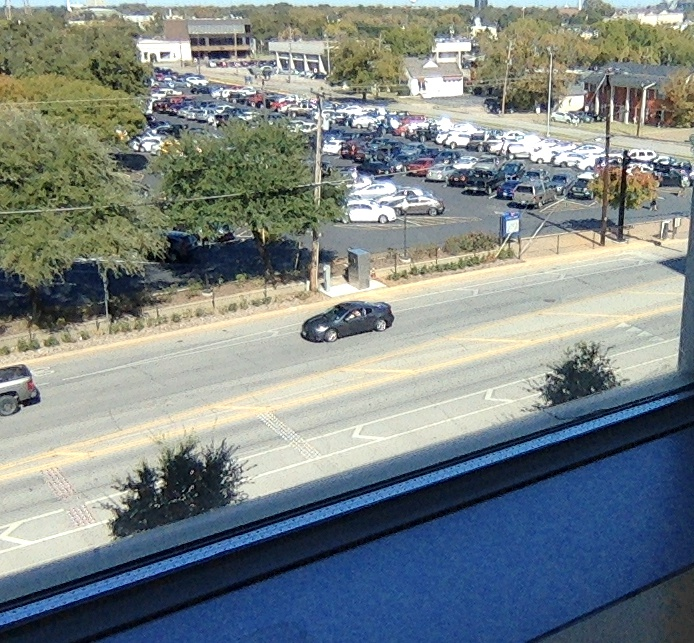car: (300, 300, 394, 343)
